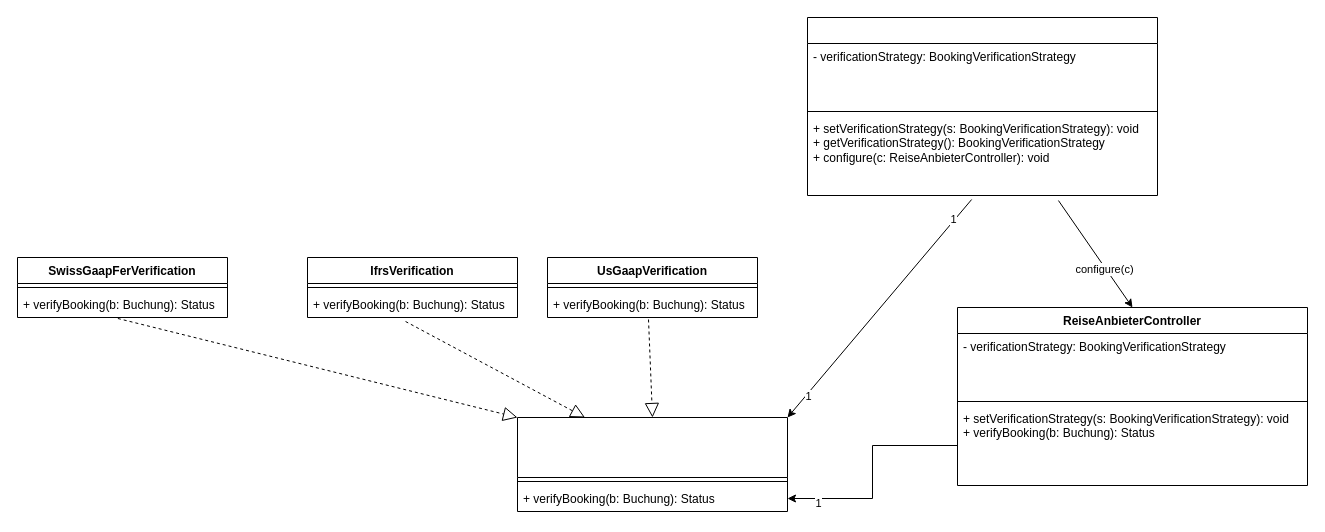
Some shapes in this 1325 by 532 pixel diagram are drawn without their labels. The shapes that lost their labels are listed below. From the top down, each one's box as (x1, y1, x2, y2) in pixels, then its label:
(806, 16, 1158, 196): GlobalConfig
(516, 416, 788, 512): <interface> BookingVerificationStrategy
